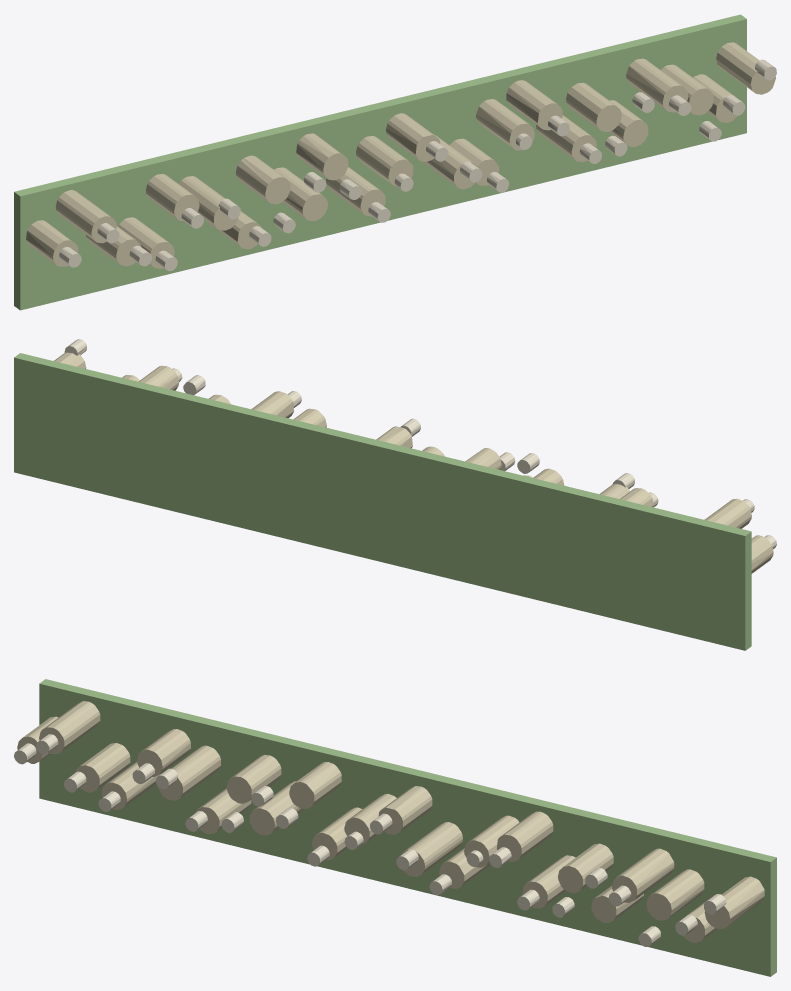
The model's file is r-102-fish-creek-cattail-margin.glb.
3 views of the same model, one above another, from view 1: azimuth 30°, elevation 25°; view 2: azimuth 150°, elevation 25°; view 3: azimuth 330°, elevation 25° (orthographic).
Visible parts, largest first — view 1: grass-bank, reeds, reed-heads; view 2: grass-bank, reeds, reed-heads; view 3: grass-bank, reeds, reed-heads.
Boxes of the visible parts, x1,y1,x2,y2 form: grass-bank: [14, 14, 746, 310]; reeds: [26, 42, 775, 268]; reed-heads: [59, 59, 776, 271]; grass-bank: [14, 353, 751, 650]; reeds: [54, 352, 773, 573]; reed-heads: [64, 339, 776, 549]; grass-bank: [39, 679, 776, 976]; reeds: [17, 701, 764, 942]; reed-heads: [14, 734, 726, 946].
Bounding box in the file's own units: 20000 × 3001 × 2550.
